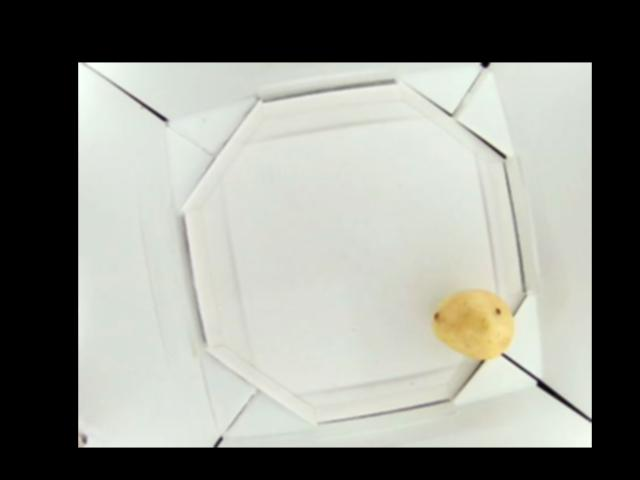Potato: (435, 287, 515, 358)
